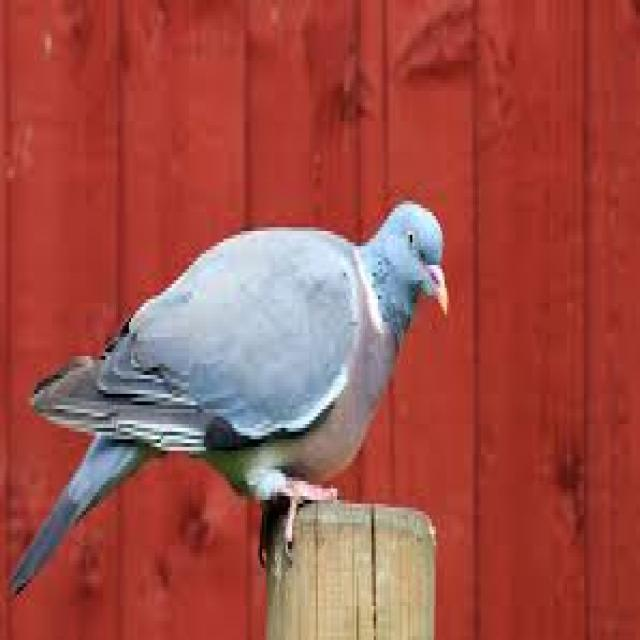pigeon: (24, 169, 463, 627)
